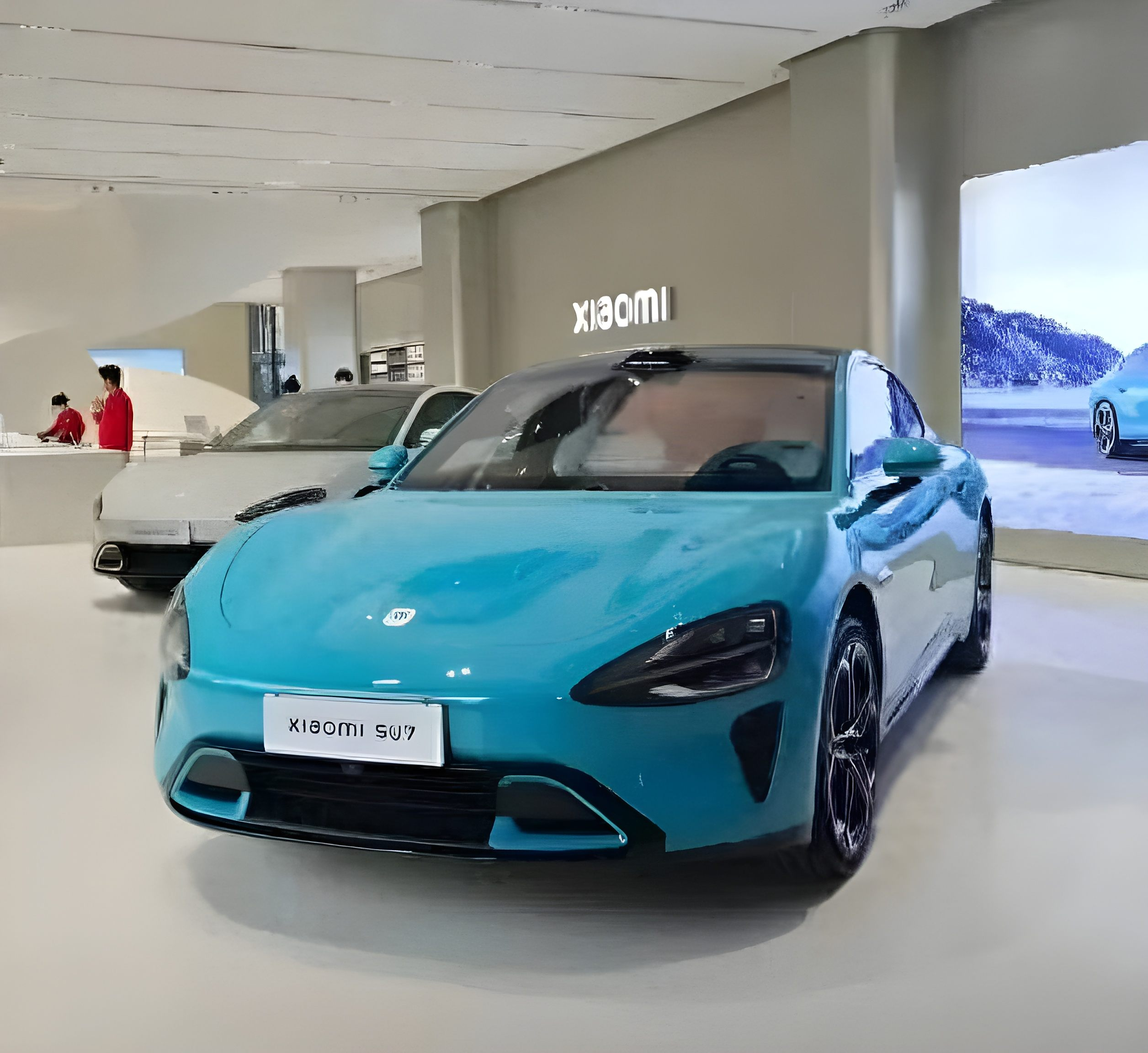su7: (156, 320, 997, 883), (81, 391, 489, 590)
